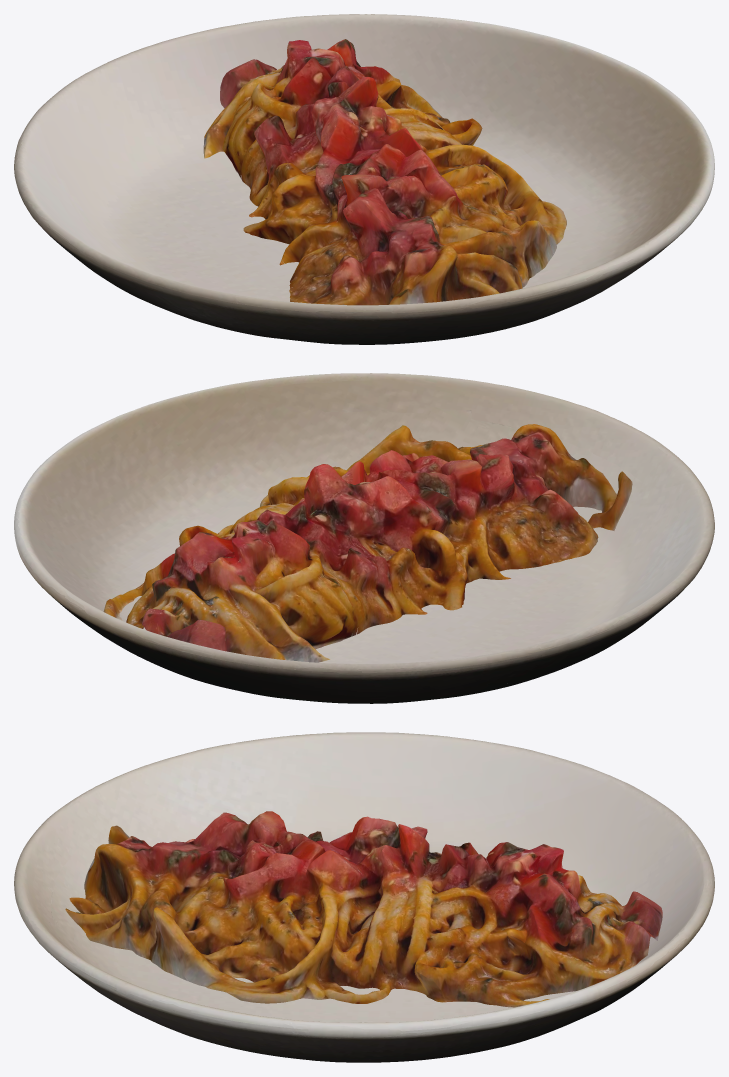
Rendered from Tomato.linquini.002.glb.
3 renders of one model, top to bottom at view 1: azimuth 30°, elevation 25°; view 2: azimuth 150°, elevation 25°; view 3: azimuth 270°, elevation 25°, orthographic.
Visible parts, largest first — view 1: /Root/Scenes/Scene/Object_37/Object_39/Object_40/Submesh_0, /Root/Scenes/Scene/Object_37/Object_38/Submesh_0; view 2: /Root/Scenes/Scene/Object_37/Object_39/Object_40/Submesh_0, /Root/Scenes/Scene/Object_37/Object_38/Submesh_0; view 3: /Root/Scenes/Scene/Object_37/Object_39/Object_40/Submesh_0, /Root/Scenes/Scene/Object_37/Object_38/Submesh_0.
Part boxes in pixels (x1=…): /Root/Scenes/Scene/Object_37/Object_39/Object_40/Submesh_0: x1=14, y1=14, x2=714, y2=344; /Root/Scenes/Scene/Object_37/Object_38/Submesh_0: x1=203, y1=39, x2=566, y2=305; /Root/Scenes/Scene/Object_37/Object_39/Object_40/Submesh_0: x1=14, y1=373, x2=714, y2=703; /Root/Scenes/Scene/Object_37/Object_38/Submesh_0: x1=103, y1=424, x2=632, y2=662; /Root/Scenes/Scene/Object_37/Object_39/Object_40/Submesh_0: x1=14, y1=732, x2=714, y2=1062; /Root/Scenes/Scene/Object_37/Object_38/Submesh_0: x1=65, y1=811, x2=662, y2=1007.
Bounding box in the file's own units: 0.2601 × 0.0621 × 0.2601.
2 materials, 2 textured.
